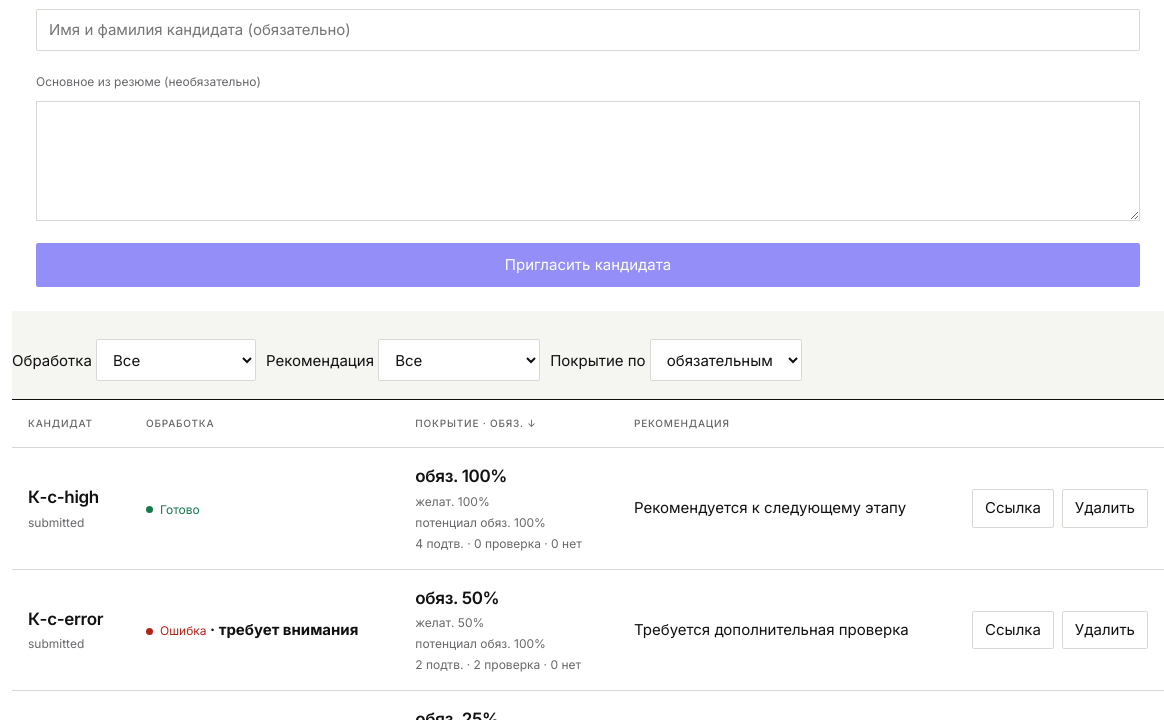
Test: CandidateListPage › фильтрует по проходит / не проходит
The width and height of the screenshot is (1164, 720).
(page scrolled)
Select "Не проходит" in the dropdown named "Фильтр по рекомендации" at (459, 360), box [378,339,540,381]
(page scrolled)
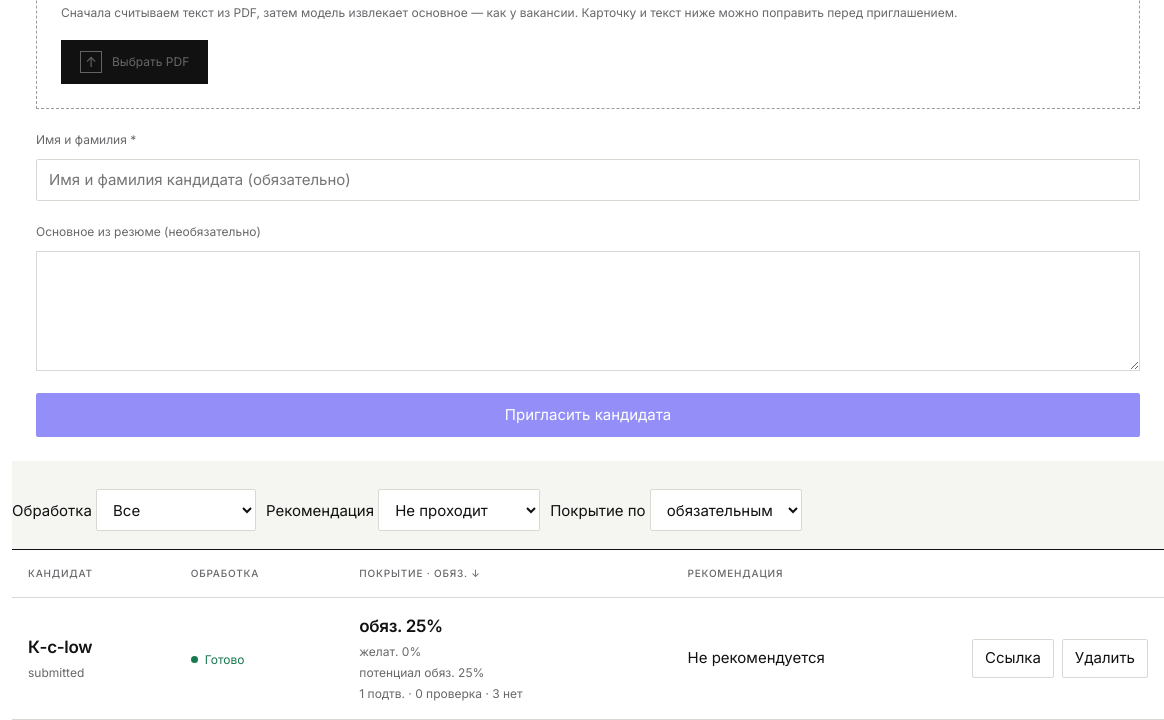
Check: the row with test id "candidate-row" shows "К-c-low", box [28,637,92,657]
Check: the number of rows with test id "candidate-row" is 1, box [12,598,1163,719]
